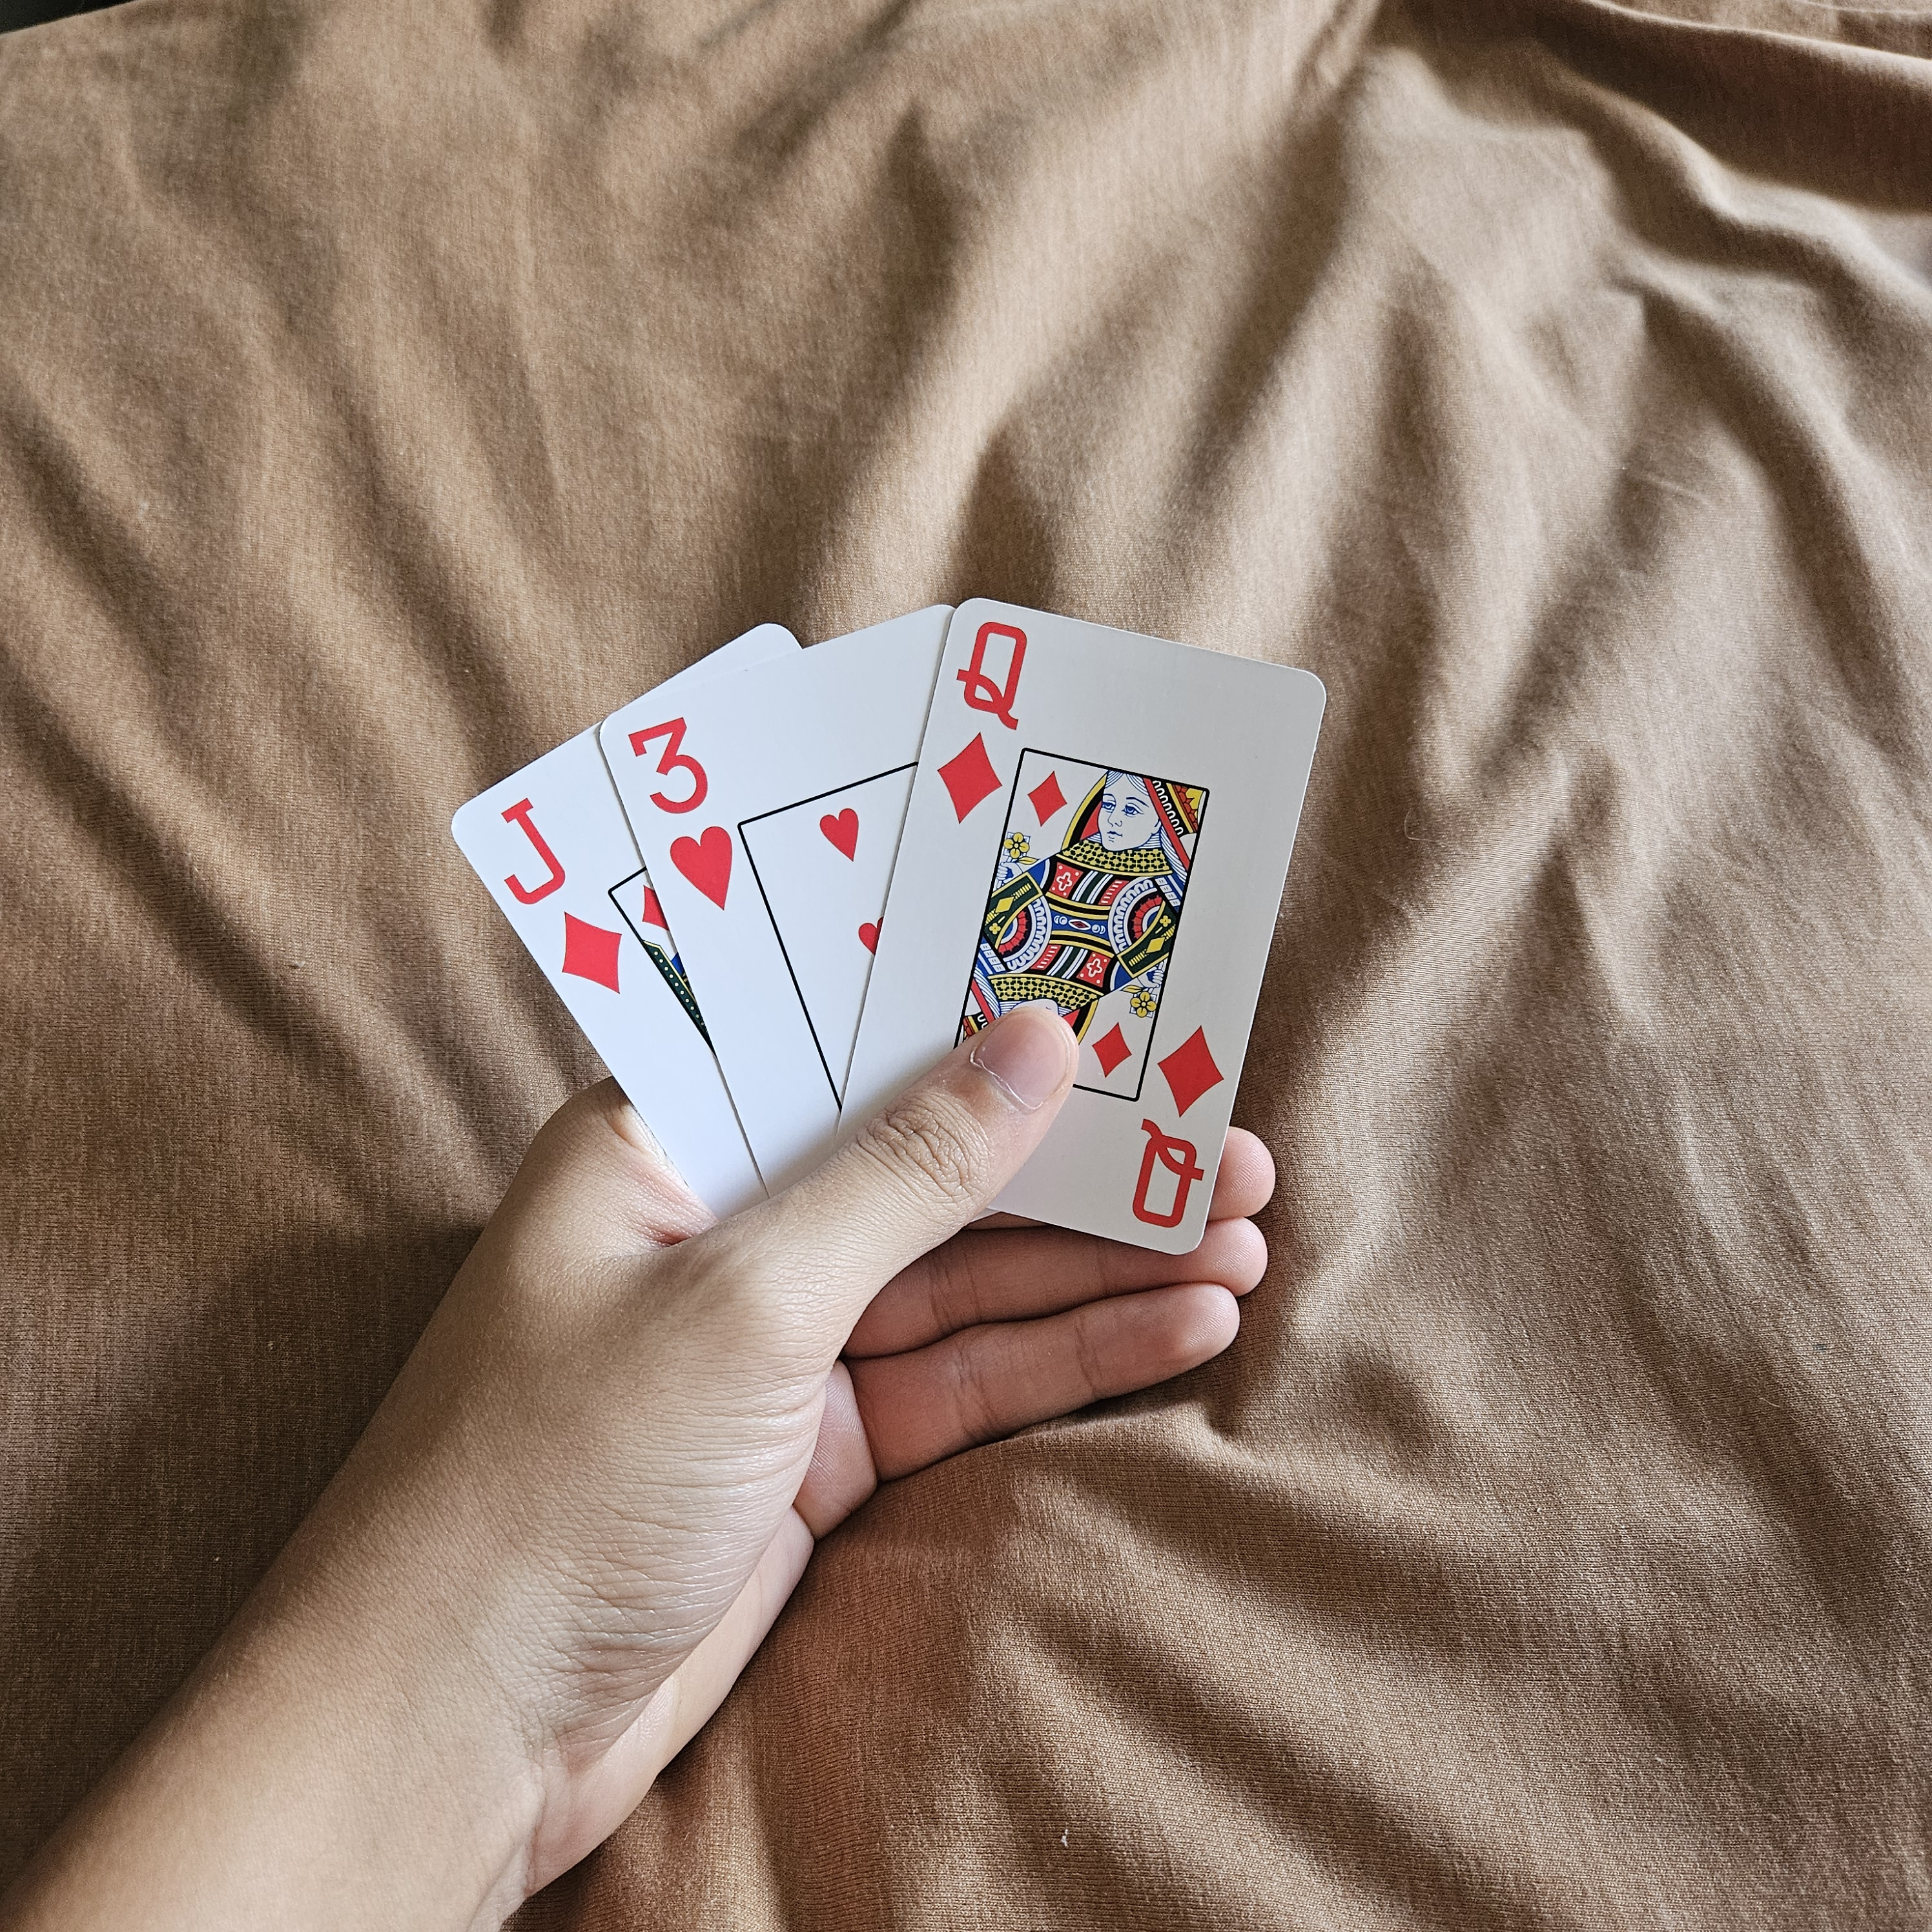3C: (621, 701, 770, 911)
JO: (465, 787, 633, 1016)
QO: (920, 603, 1035, 826), (1125, 1024, 1233, 1242)
